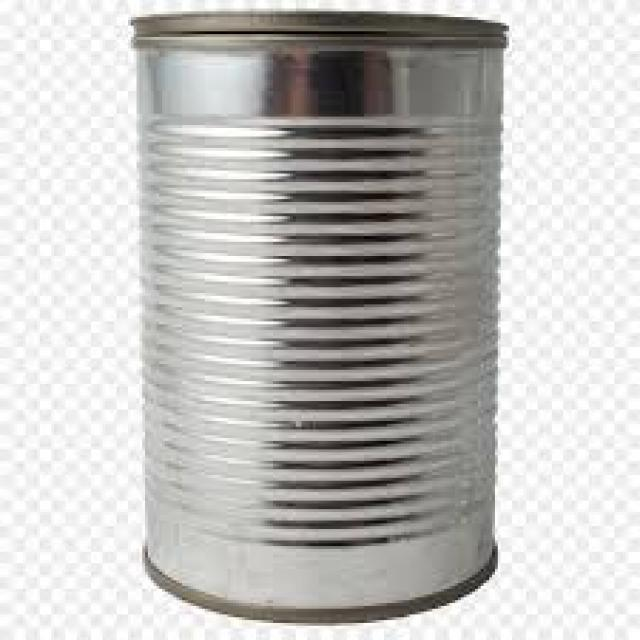metal-can: (123, 8, 510, 627)
